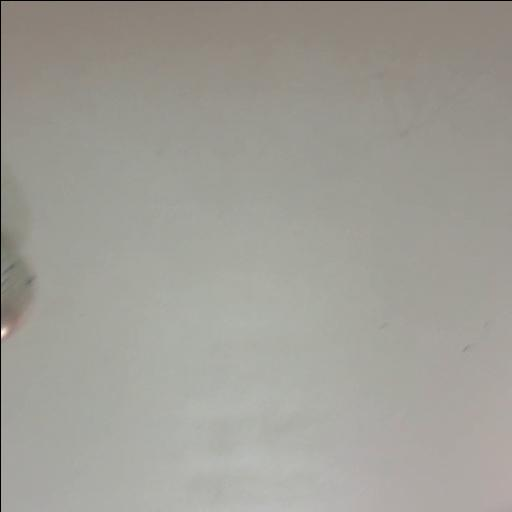alive: (0, 224, 35, 347)
